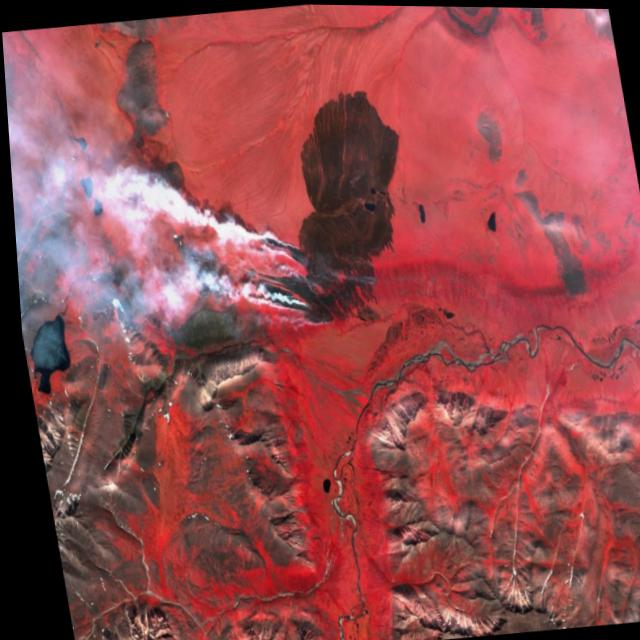fire: (218, 213, 387, 346)
